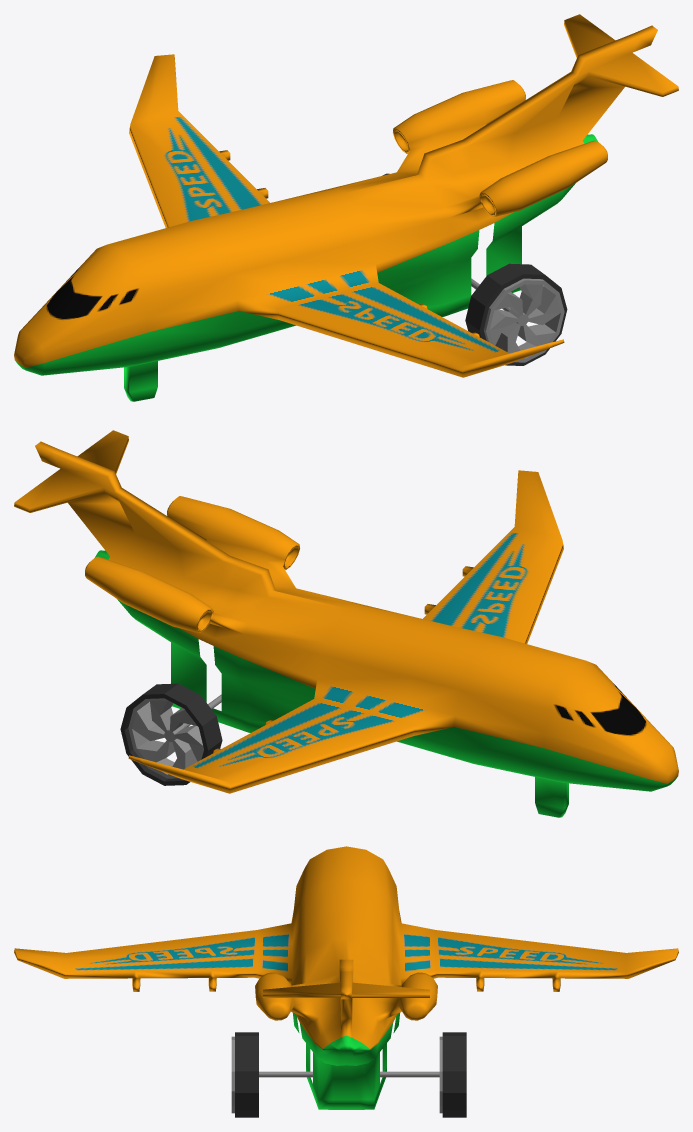
The model's file is boeing.glb.
3 renders of one model, top to bottom at view 1: azimuth 30°, elevation 25°; view 2: azimuth 150°, elevation 25°; view 3: azimuth 270°, elevation 25°, orthographic. The views are drawn at different scales.
Visible parts, largest first — view 1: AVIAO, roda, pneu; view 2: AVIAO, roda, pneu; view 3: AVIAO, pneu, roda.
Boxes of the visible parts, <box> form: AVIAO: <box>14,14,678,401</box>; roda: <box>471,278,564,362</box>; pneu: <box>382,173,567,365</box>; AVIAO: <box>14,430,678,817</box>; roda: <box>128,694,221,778</box>; pneu: <box>120,683,222,785</box>; AVIAO: <box>14,846,678,1109</box>; pneu: <box>235,1032,466,1117</box>; roda: <box>231,1036,442,1113</box>.
Size of the model in its own units: 11.48 by 4.25 by 12.32.
3 materials, 1 textured.
